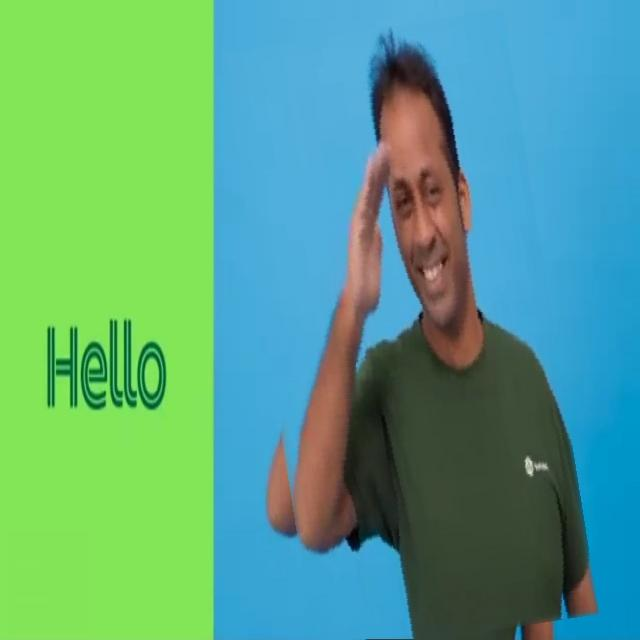Hello: (244, 17, 575, 640)
